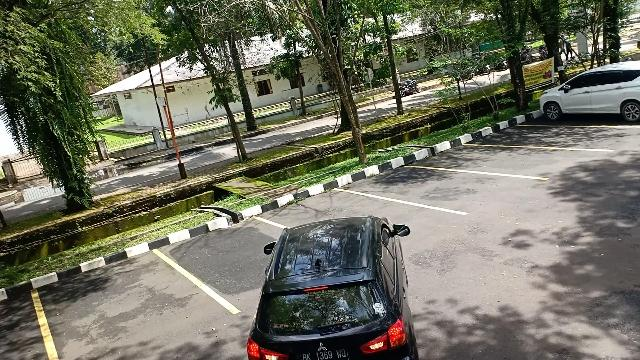empty: (39, 252, 219, 360), (381, 165, 495, 211), (454, 142, 558, 178)
